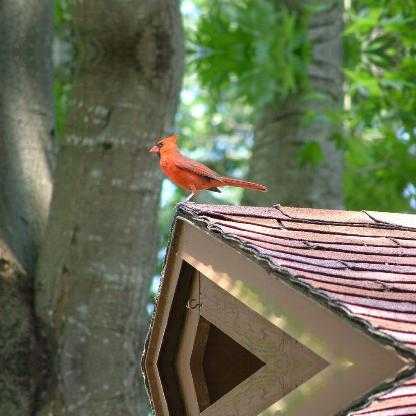Bird: (142, 134, 266, 206)
